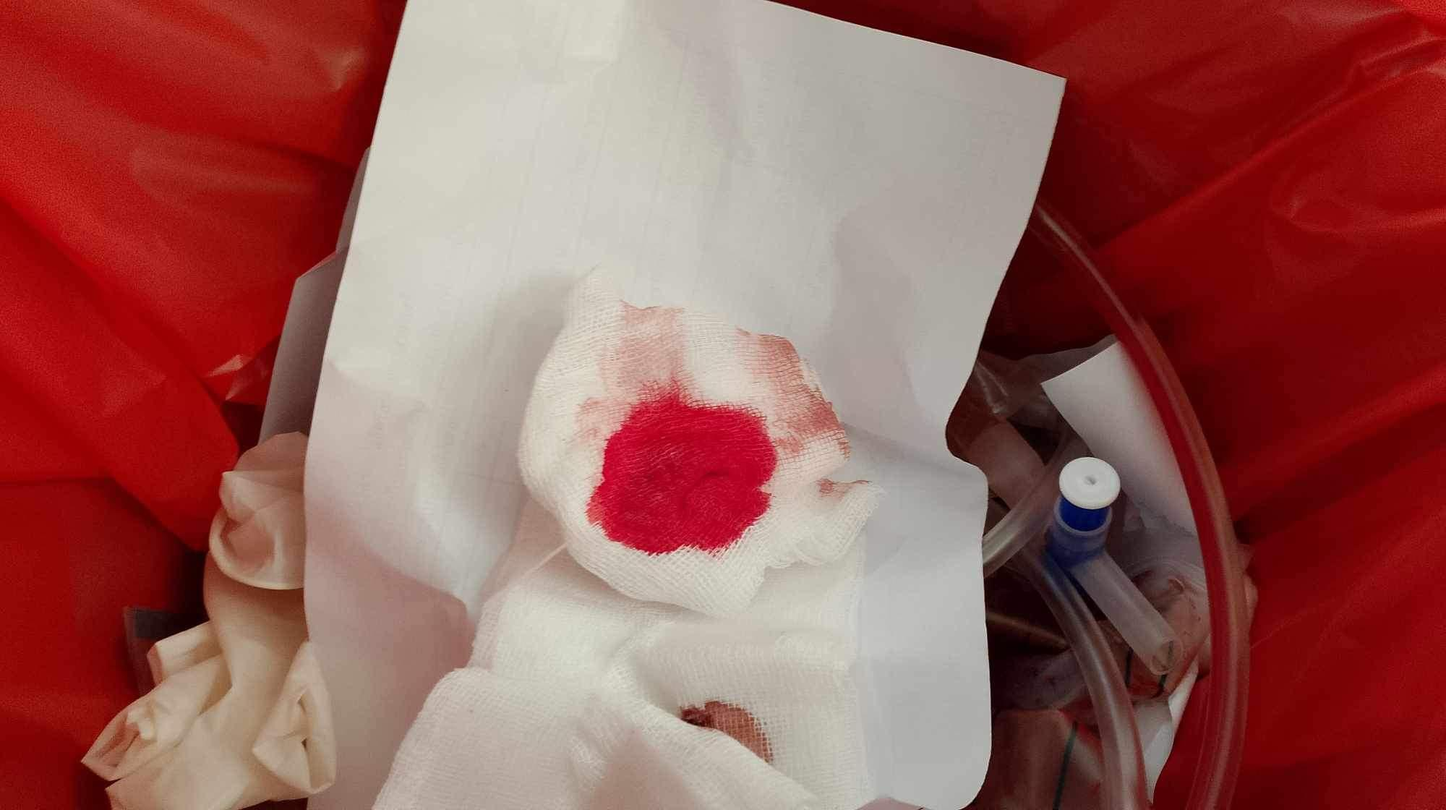General: (370, 263, 893, 805), (942, 193, 1259, 806)
Infectious: (299, 0, 1065, 808), (514, 260, 879, 617)
Sharps: (1042, 454, 1183, 683)
